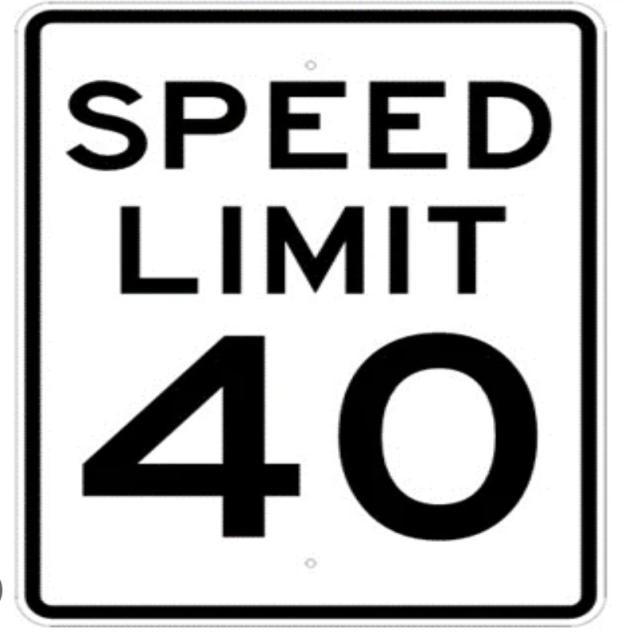speedLimit40: (35, 19, 582, 609)
